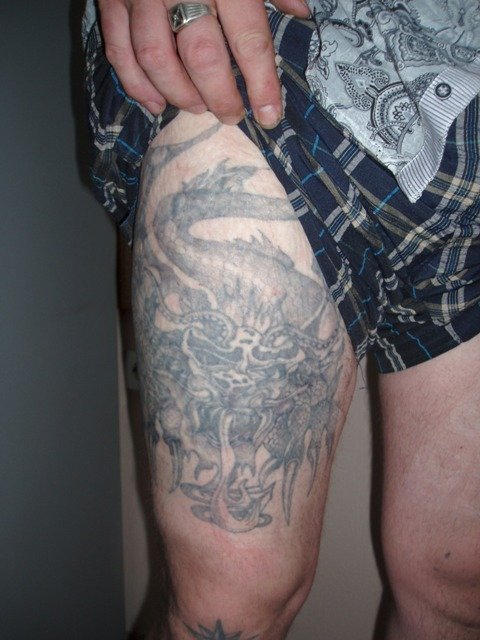tatu6_drakon: (105, 96, 367, 557)
